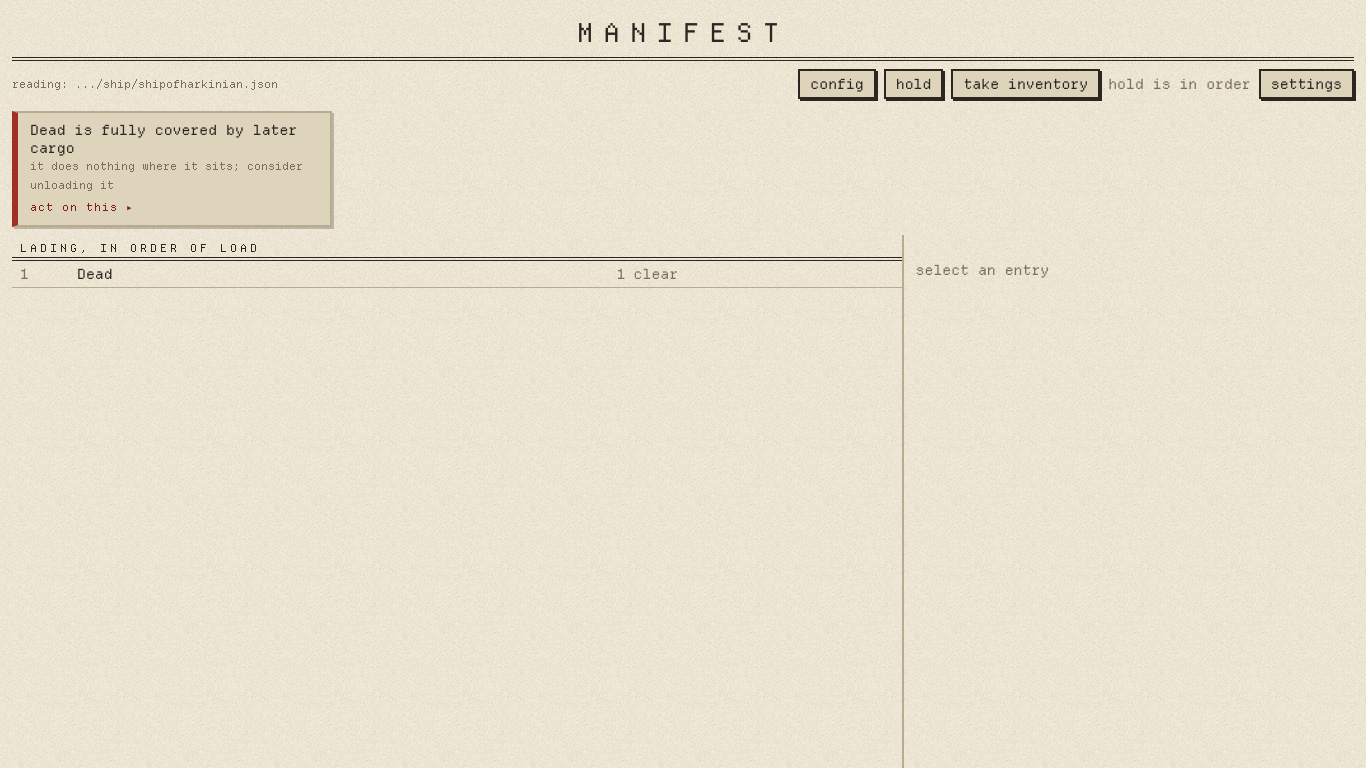
Scenario: App › shows the damaged page when stamping fails
This screenshot has width=1366, height=768.
Click the text "Dead is fully covered by later cargo" at (174, 139), box left=30, top=121, right=318, bottom=157
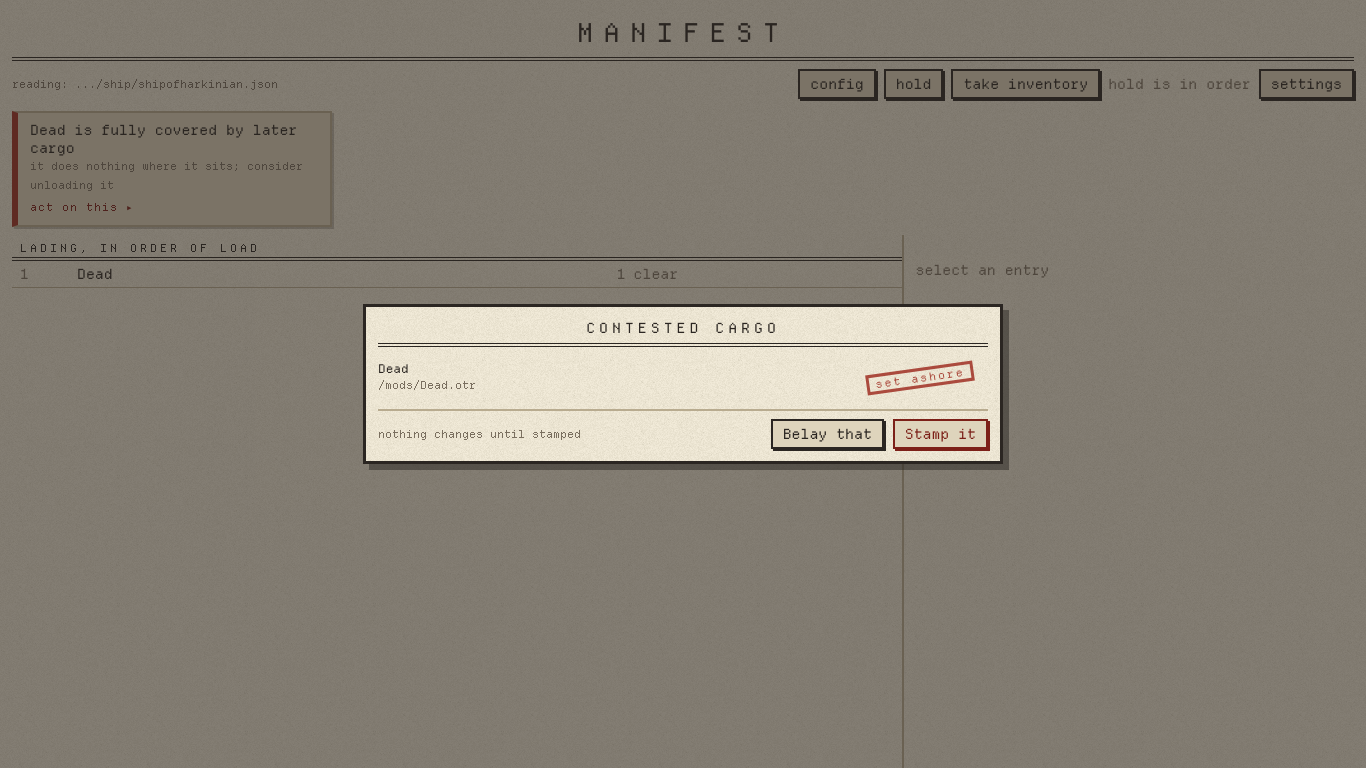
Click the button "Stamp it" at (940, 434), box left=893, top=419, right=988, bottom=449
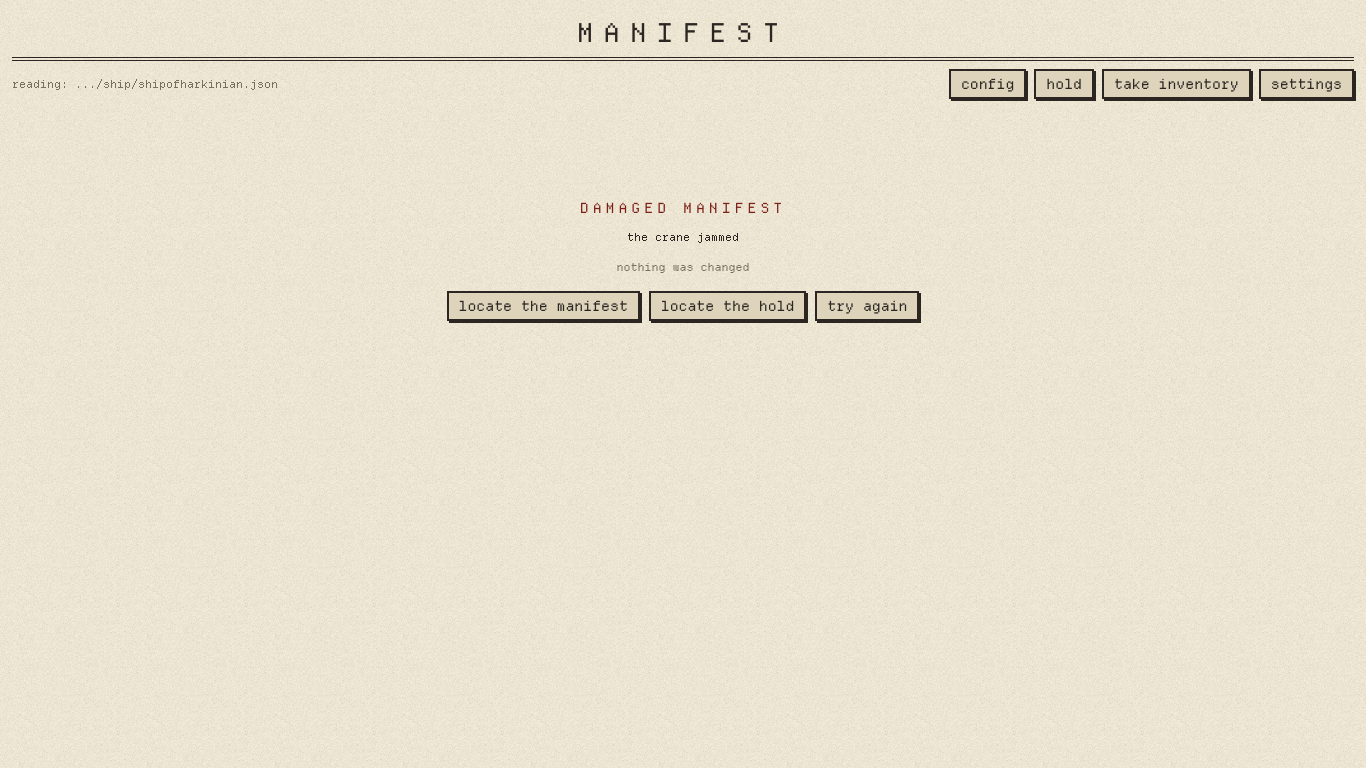
Result: the text "DAMAGED MANIFEST" is shown at left=580, top=199, right=786, bottom=217
Result: the text "CONTESTED CARGO" is gone
